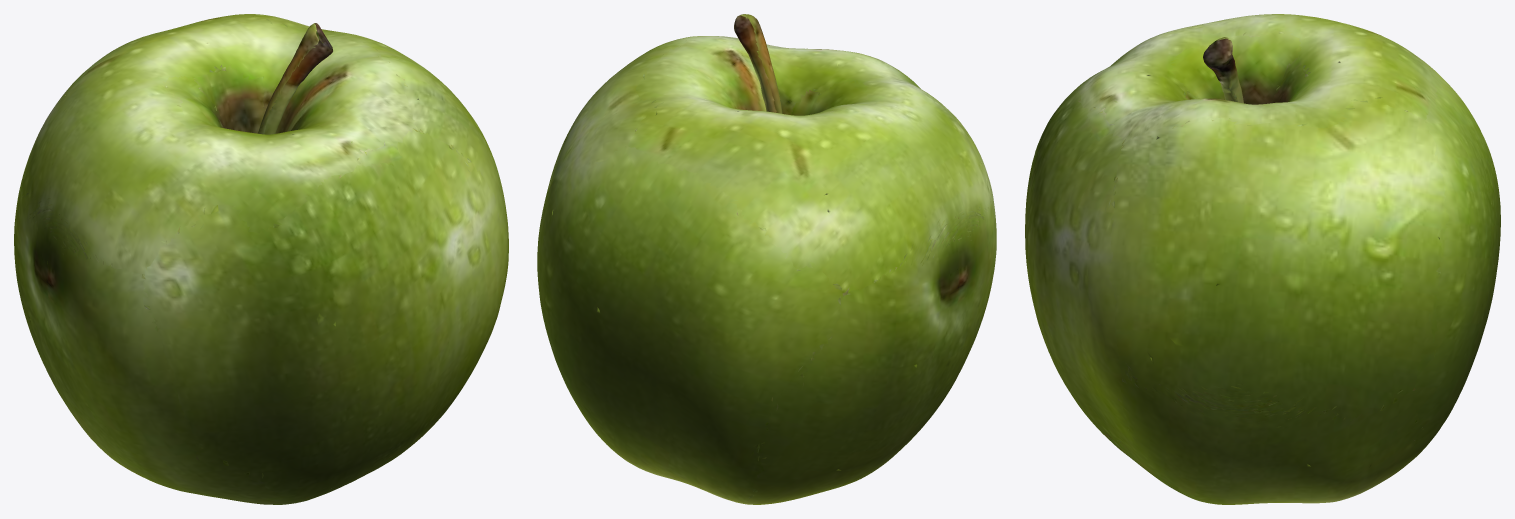
The picture shows the model from 3 angles, left to right: view 1: azimuth 30°, elevation 25°; view 2: azimuth 150°, elevation 25°; view 3: azimuth 270°, elevation 25°; orthographic projection. The views are drawn at different scales.
Size of the model in its own units: 1.95 by 2 by 1.93.
1 material, 1 textured.
